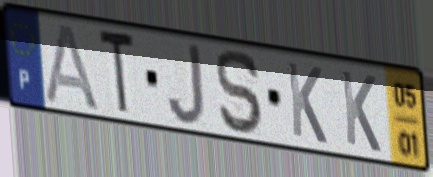A: (43, 20, 103, 114)
J: (165, 41, 208, 128)
K: (284, 58, 330, 148), (338, 66, 383, 156)
S: (214, 46, 267, 138)
T: (96, 25, 138, 118)
